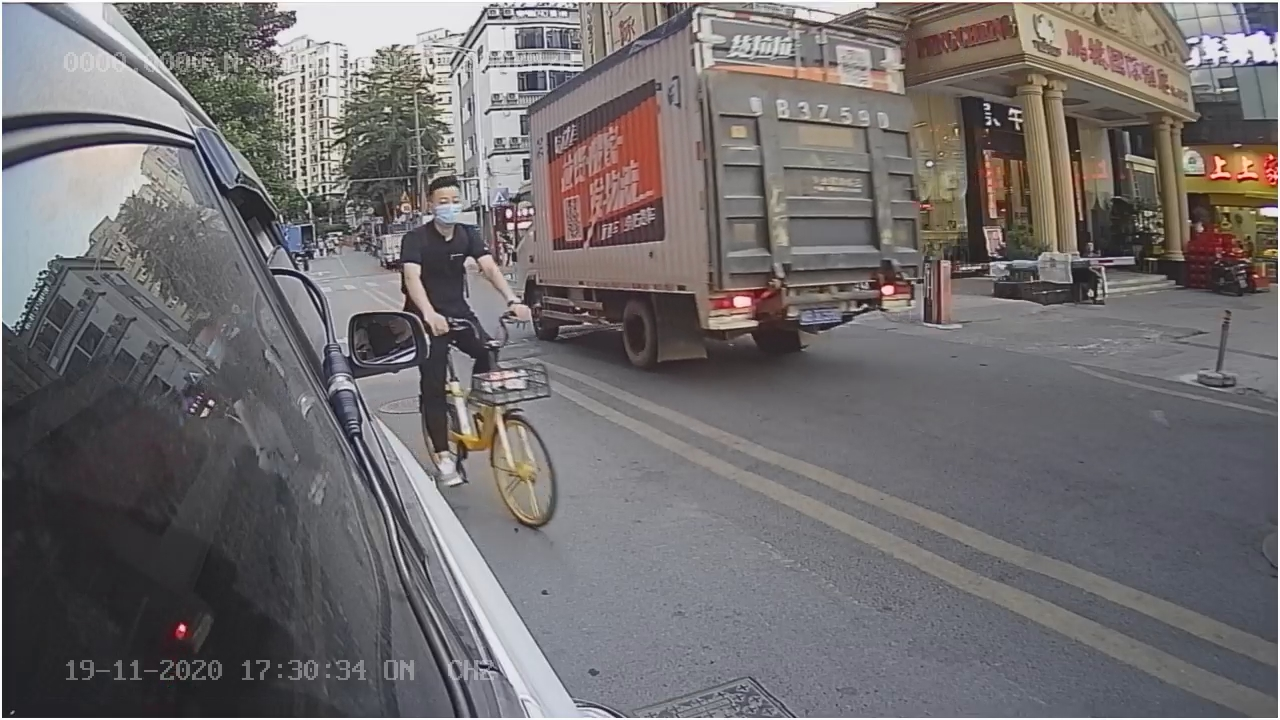person: (390, 179, 498, 306)
